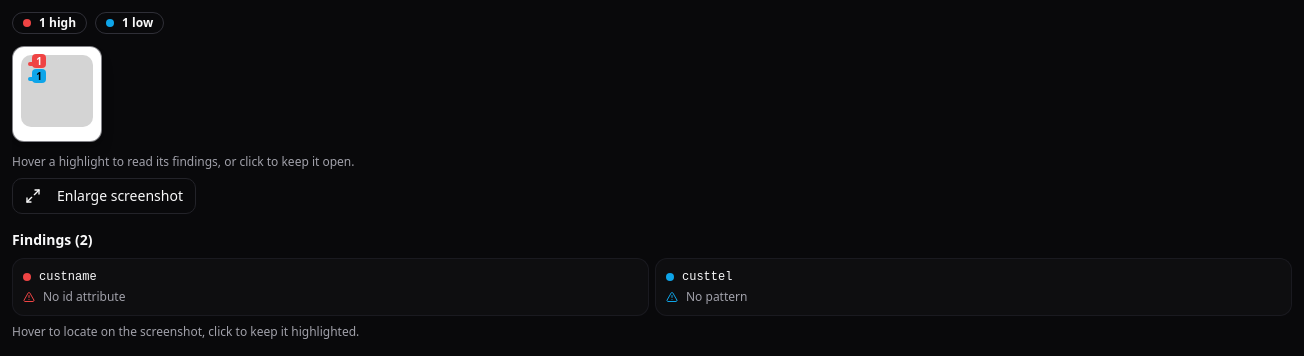
Scenario: FormVisualPanel two-way selection › shows a pinned finding tooltip on the screenshot
Click the button "custname No id attribute" at (68, 277), box [12,258,649,316]
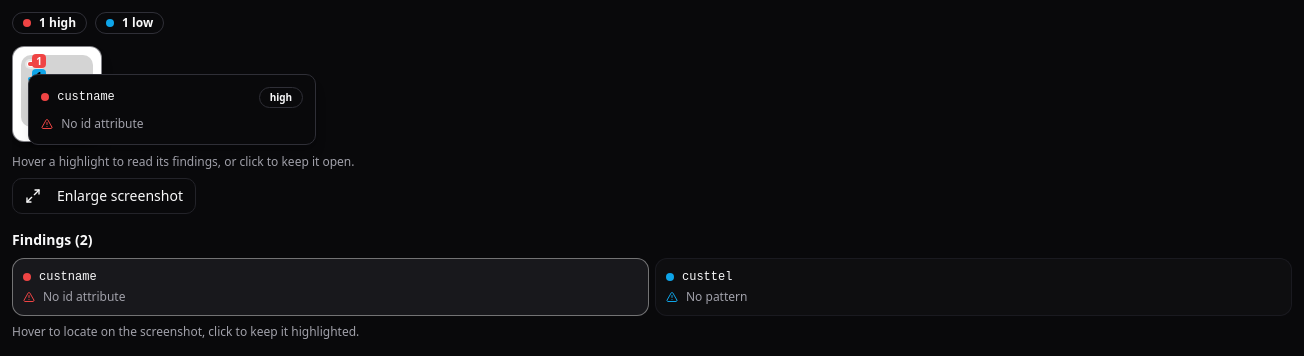
Check: the tooltip shows "No id attribute", box [61,115,144,132]
